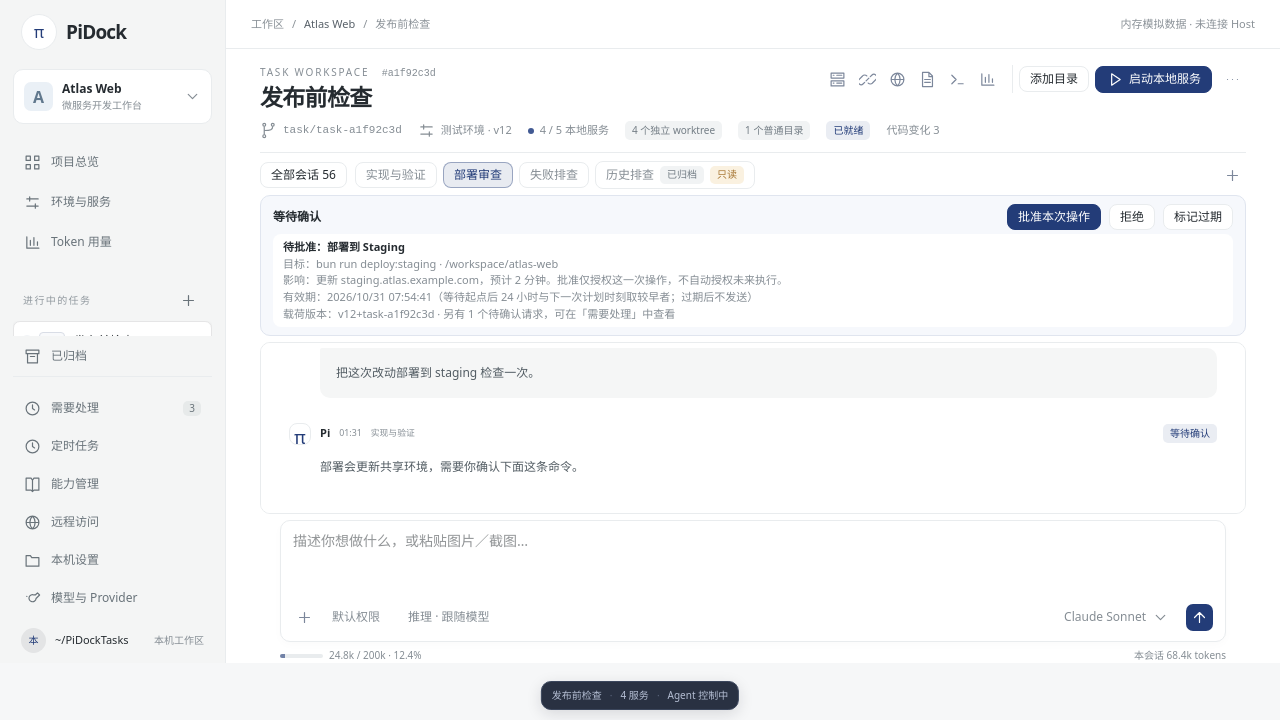
execution card › leaves no approve entry once the Host stops listing the request as pending
(page scrolled)
Expected: the heading "发布前检查" is shown, [260, 81, 372, 113]
Click the button "批准本次操作" at (1054, 217), box [1007, 204, 1101, 230]
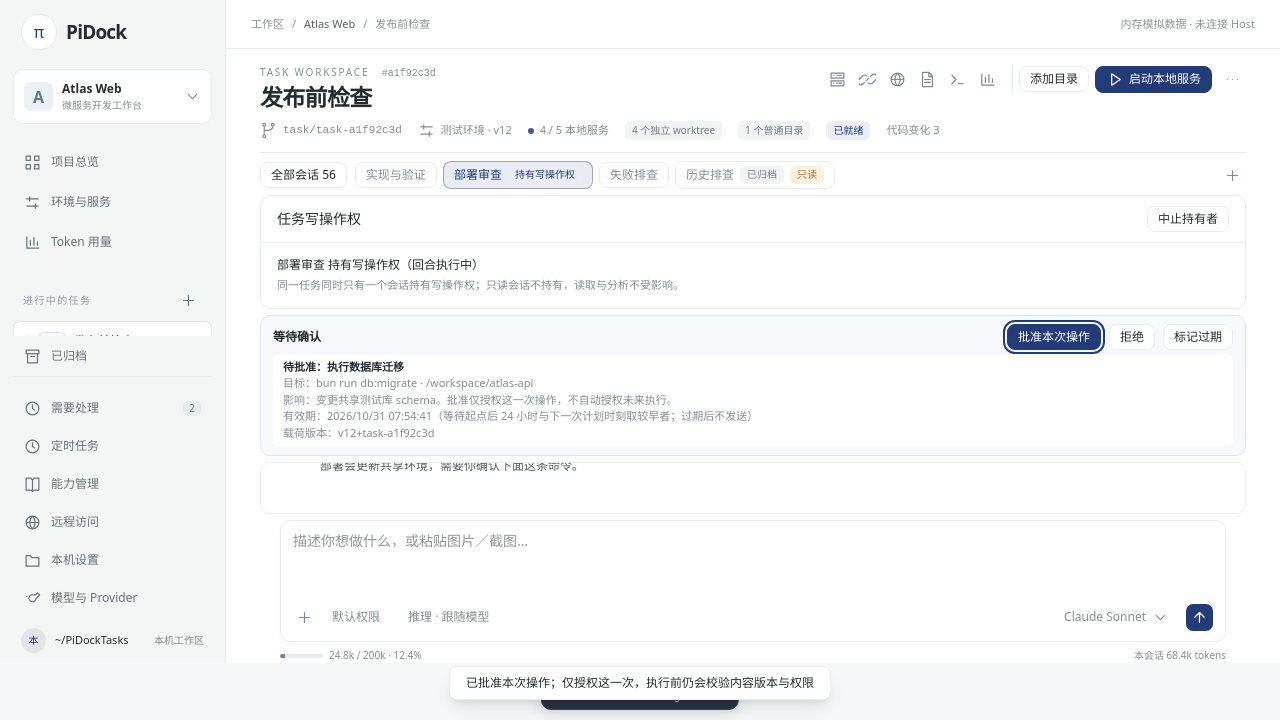
Expected: the element with test id "execution-approval-preview" no longer shows "待批准：部署到 Staging", [273, 354, 1233, 447]
